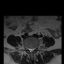CCS_normal: (30, 46, 32, 54)
LFS_normal: (34, 45, 36, 51)
LLS_normal: (32, 46, 34, 53)
RFS_normal: (26, 45, 28, 51)
RLS_normal: (28, 46, 30, 52)
